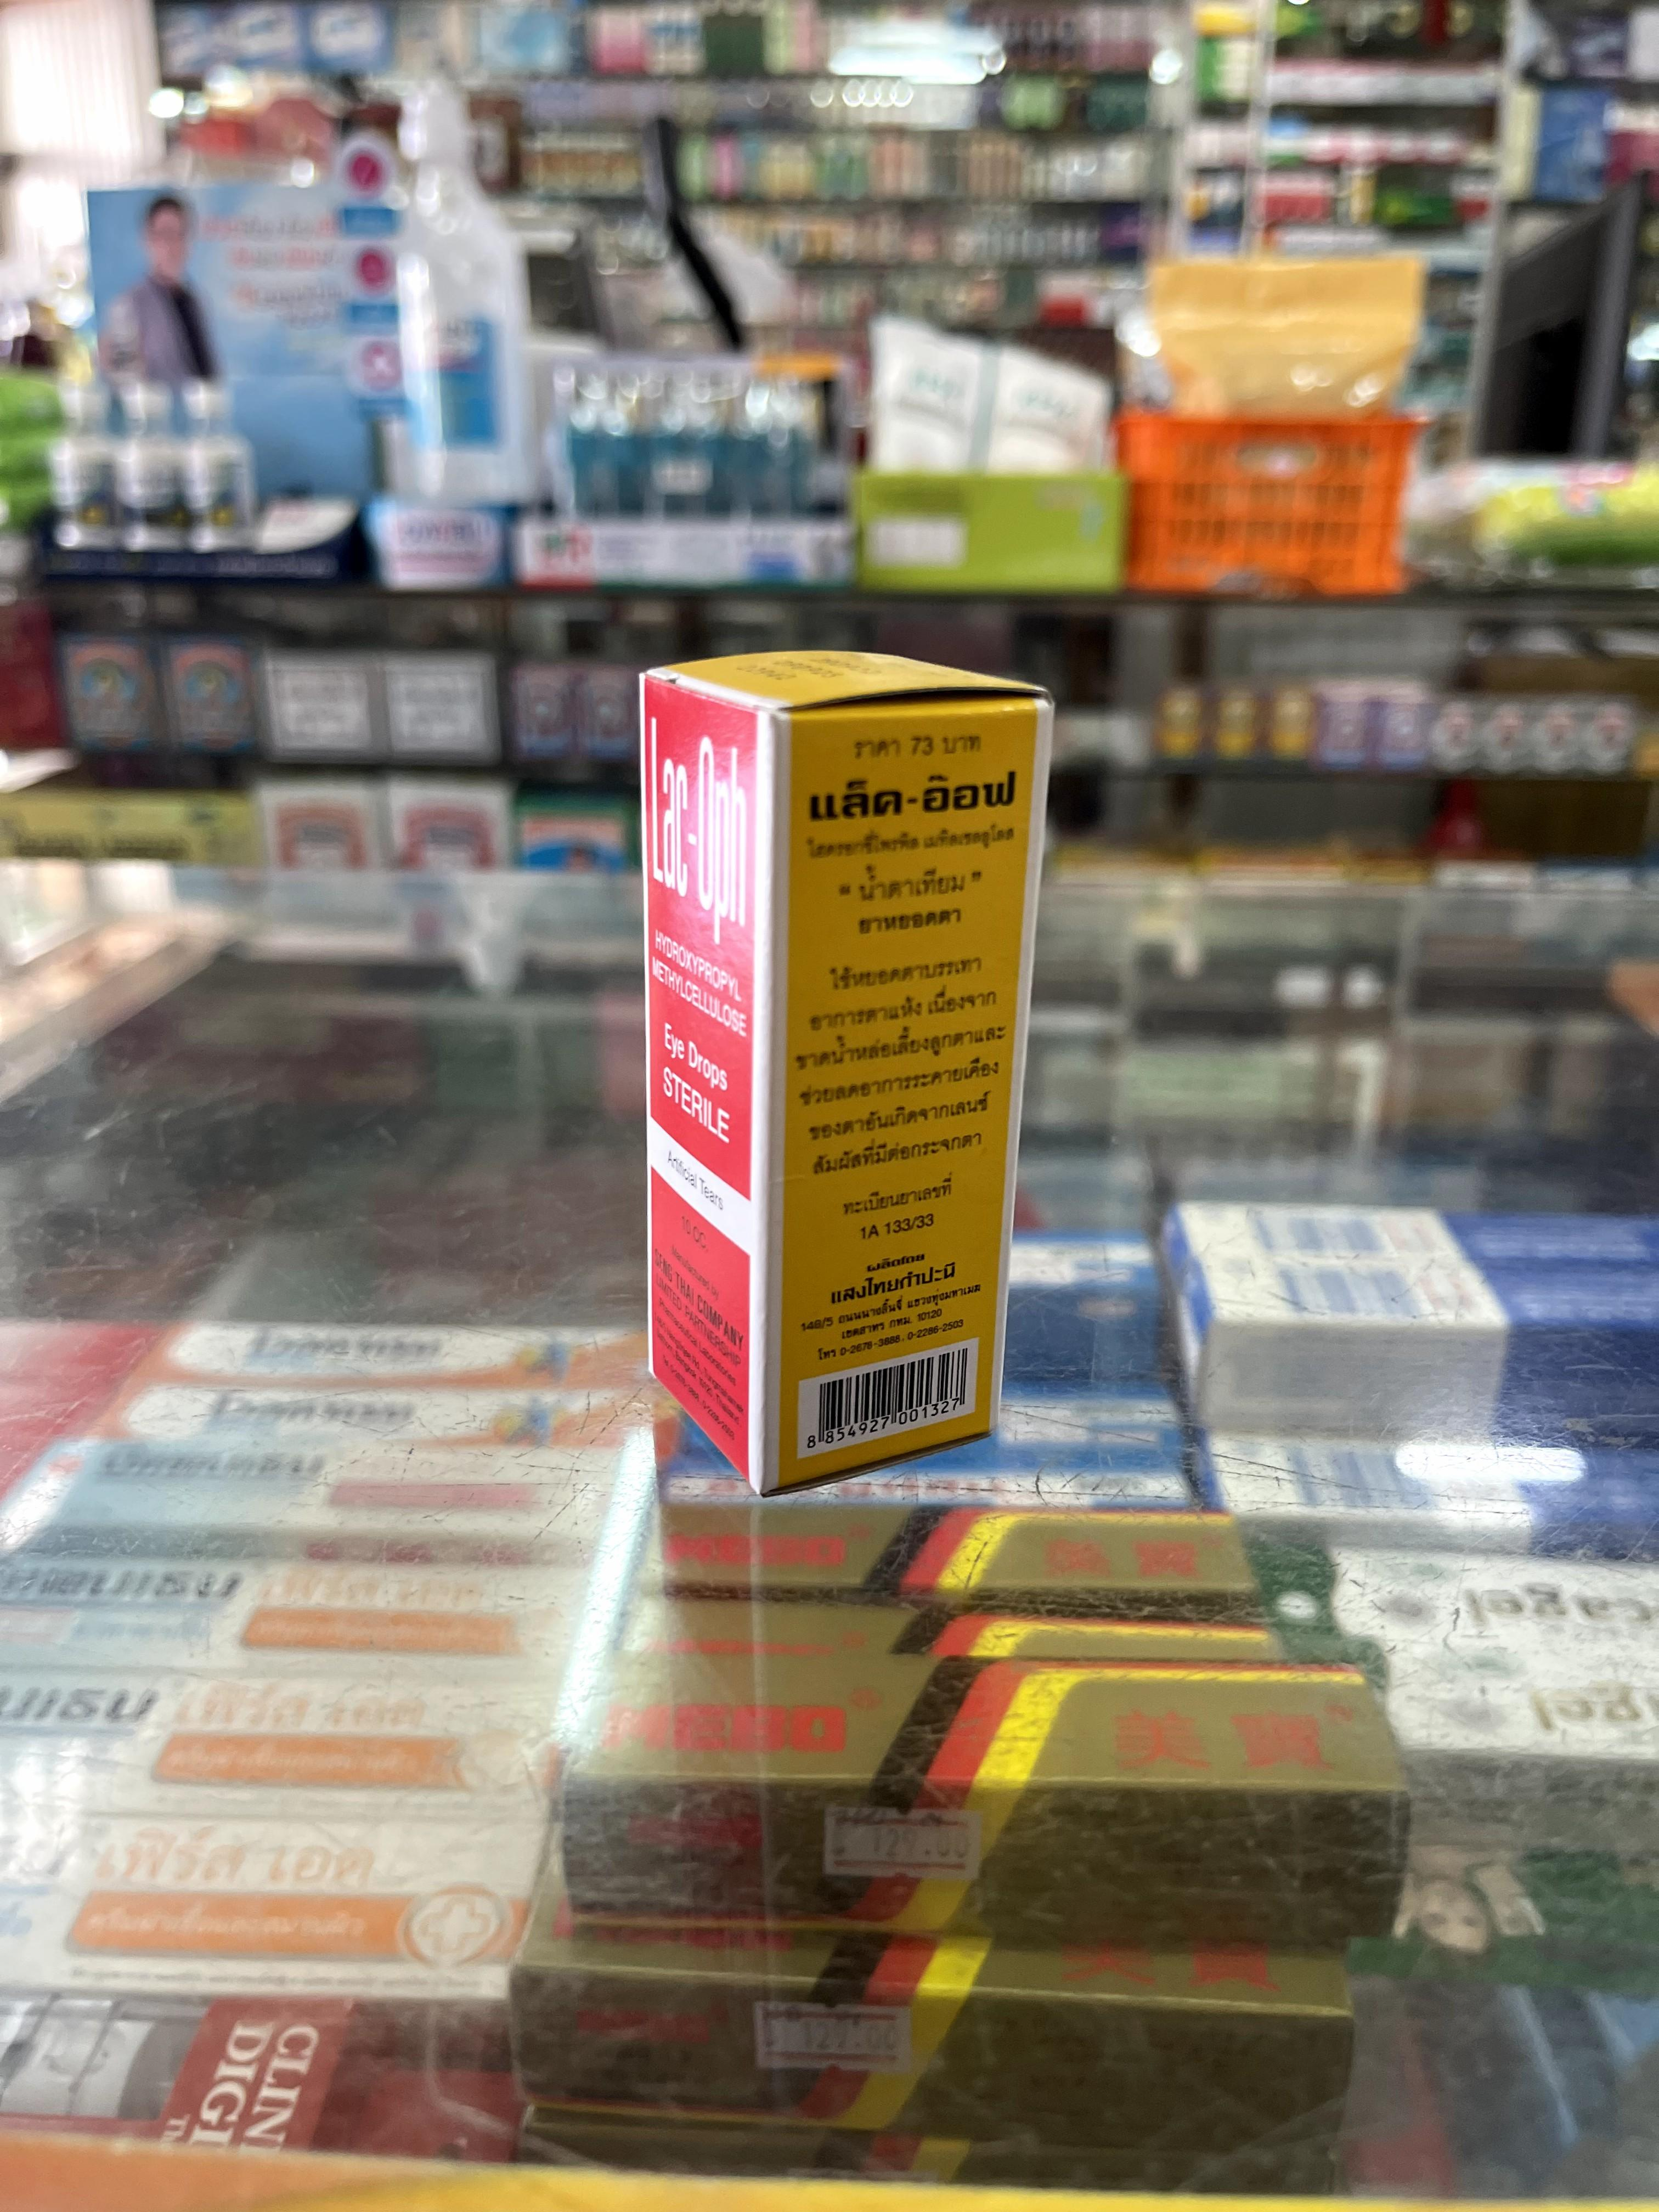Lac-Oph_Red: (636, 653, 1051, 1493)
